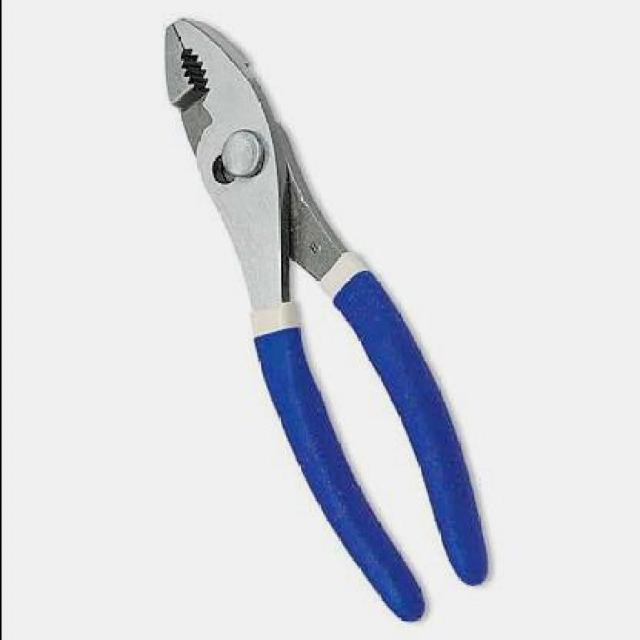pliers: (156, 18, 490, 627)
